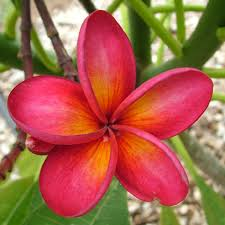frangipani: (9, 9, 212, 217)
